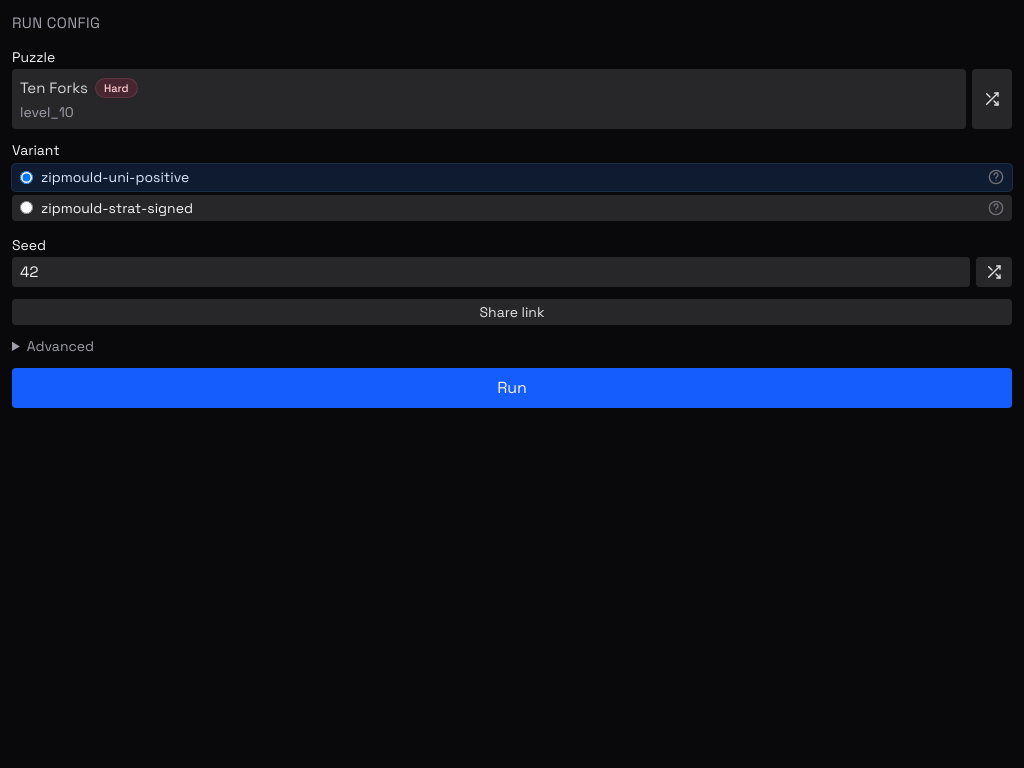
Test: ConfigPanel › opens the puzzle picker and selects a puzzle
Click the button with test id "open-puzzle-picker" at point(54, 88), box [12, 69, 966, 129]
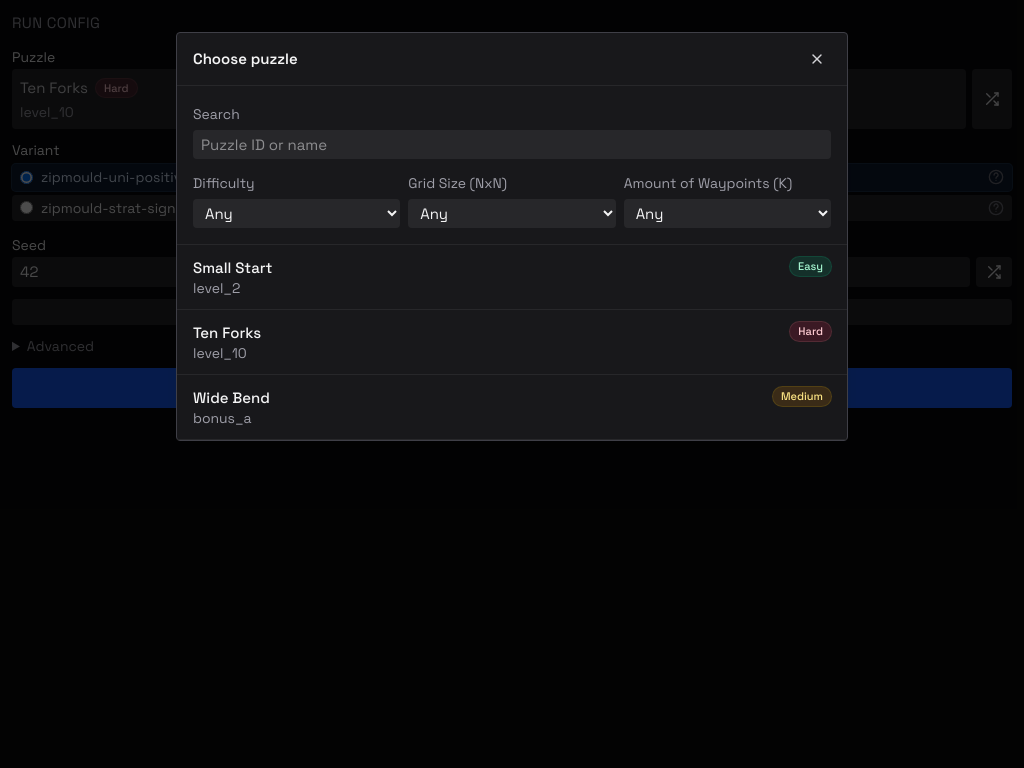
expect the dialog shows "level_2": met, box [177, 245, 847, 310]
Click the button with test id "puzzle-option" at point(227, 333), box [177, 310, 847, 375]
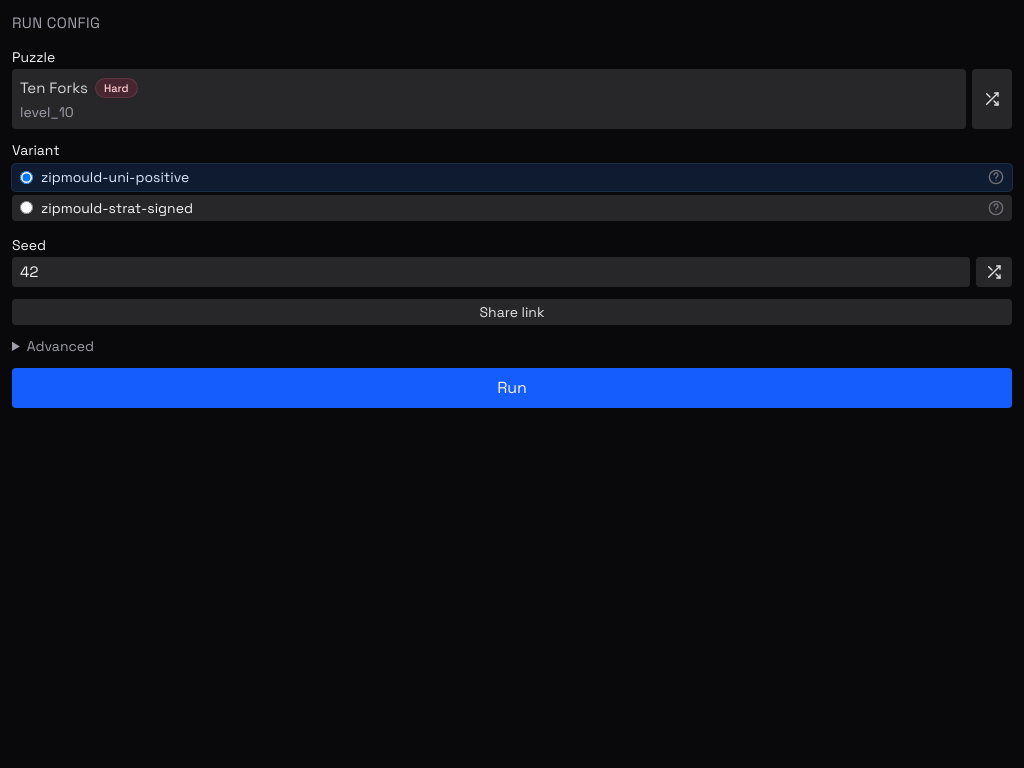
expect the text "level_10" is shown: met, box [20, 103, 74, 121]
expect the dialog is gone: met
